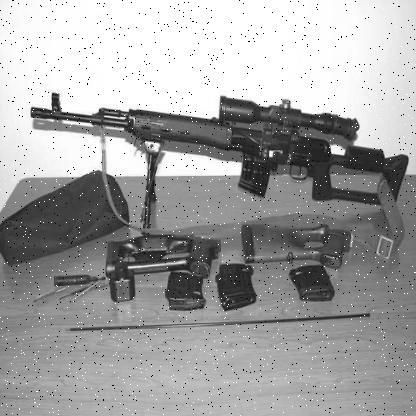rifle: (33, 70, 416, 231)
